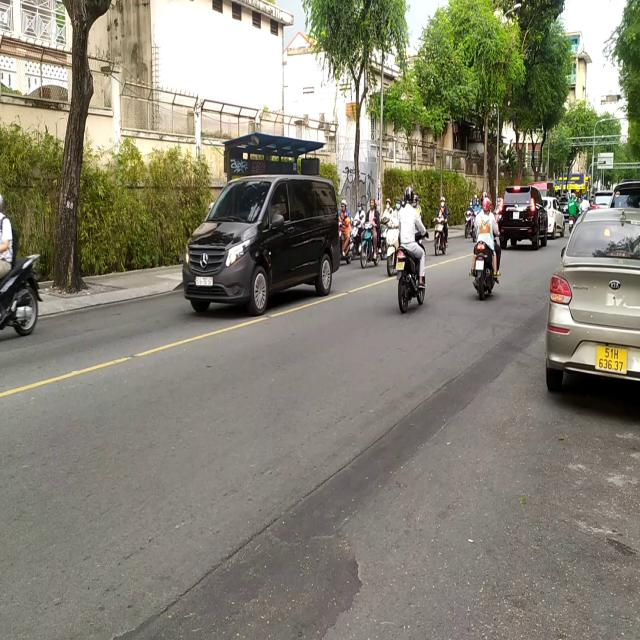bien_vang: (594, 343, 630, 377)
